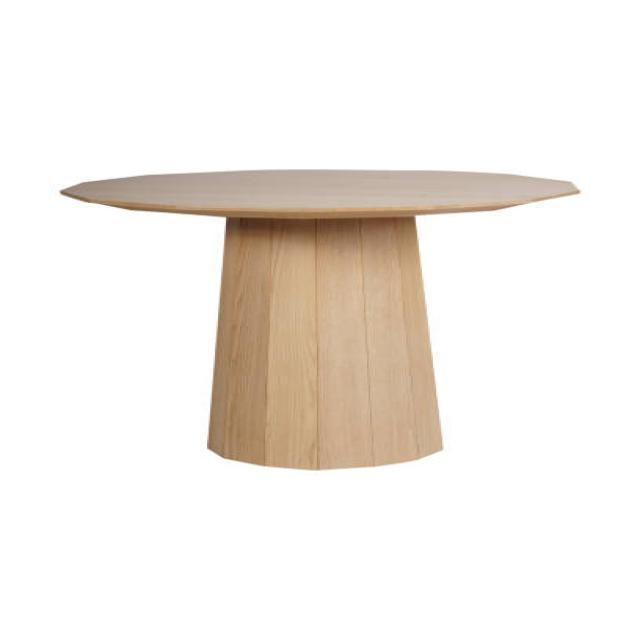table: (58, 167, 580, 471)
